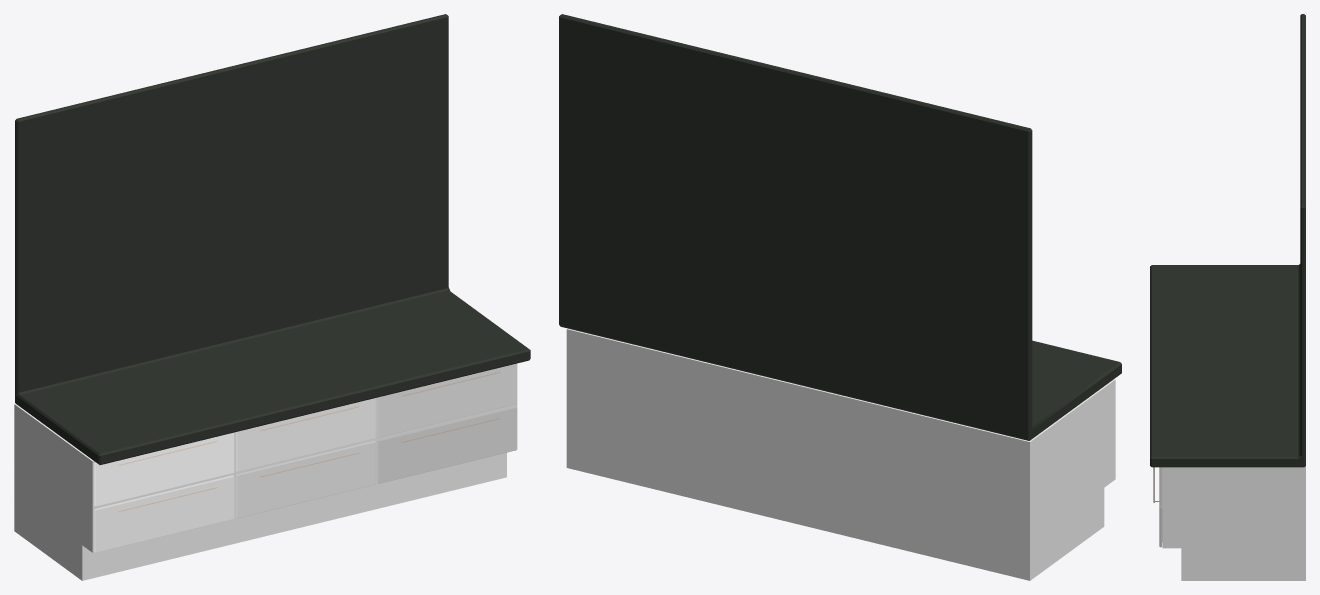
The model's file is CounterTopMesh_fb983d72.obj.
3 views of the same model, side by side, from view 1: azimuth 30°, elevation 25°; view 2: azimuth 150°, elevation 25°; view 3: azimuth 270°, elevation 25° (orthographic). The views are drawn at different scales.
Visible parts, largest first — view 1: CounterTopMesh_fb983d72, FP410:Door2_01_11f89cc8, FP410:Door2_01_57d40a91, FP410:Door2_01_e23e480b, FP410:Door2_01_e8e85d07, FP410:Door2_01_4cebcfe4, FP410:Door2_01_e1abc1ee; view 2: CounterTopMesh_fb983d72; view 3: CounterTopMesh_fb983d72.
Part boxes in pixels (x1,y1,x2,y2): CounterTopMesh_fb983d72: [14, 14, 530, 580]; FP410:Door2_01_11f89cc8: [377, 406, 517, 483]; FP410:Door2_01_57d40a91: [94, 475, 234, 552]; FP410:Door2_01_e23e480b: [236, 440, 375, 518]; FP410:Door2_01_e8e85d07: [94, 432, 234, 506]; FP410:Door2_01_4cebcfe4: [377, 363, 517, 437]; FP410:Door2_01_e1abc1ee: [236, 398, 375, 472]; CounterTopMesh_fb983d72: [559, 14, 1121, 580]; CounterTopMesh_fb983d72: [1150, 14, 1305, 580].
Size of the model in its own units: 2.63 by 2.4 by 0.8956.
